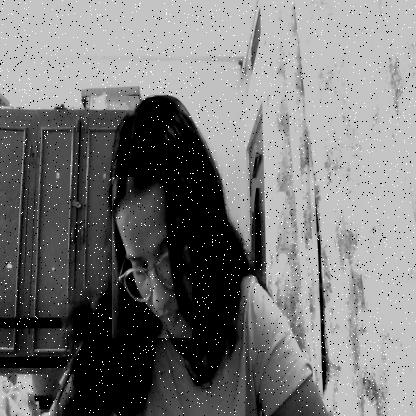Distracted: (112, 177, 192, 338)
